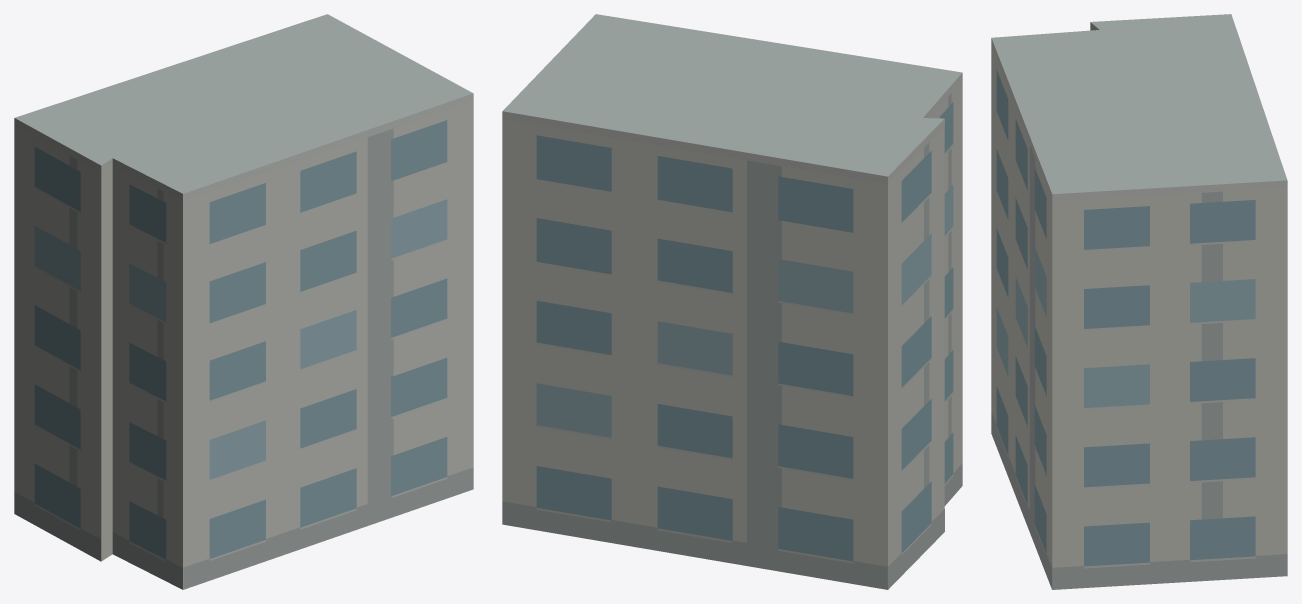
File: survey-upis-32575280.glb
3 views of the same model, side by side, from view 1: azimuth 30°, elevation 25°; view 2: azimuth 150°, elevation 25°; view 3: azimuth 270°, elevation 25° (orthographic). The views are drawn at different scales.
Visible parts, largest first — view 1: survey-upis-32575280.tmp; view 2: survey-upis-32575280.tmp; view 3: survey-upis-32575280.tmp.
Part boxes in pixels (left/top/right/bottom): survey-upis-32575280.tmp: left=14, top=14, right=473, bottom=589; survey-upis-32575280.tmp: left=502, top=14, right=962, bottom=589; survey-upis-32575280.tmp: left=991, top=14, right=1287, bottom=589.
Size of the model in its own units: 12.7 by 13 by 8.83.
